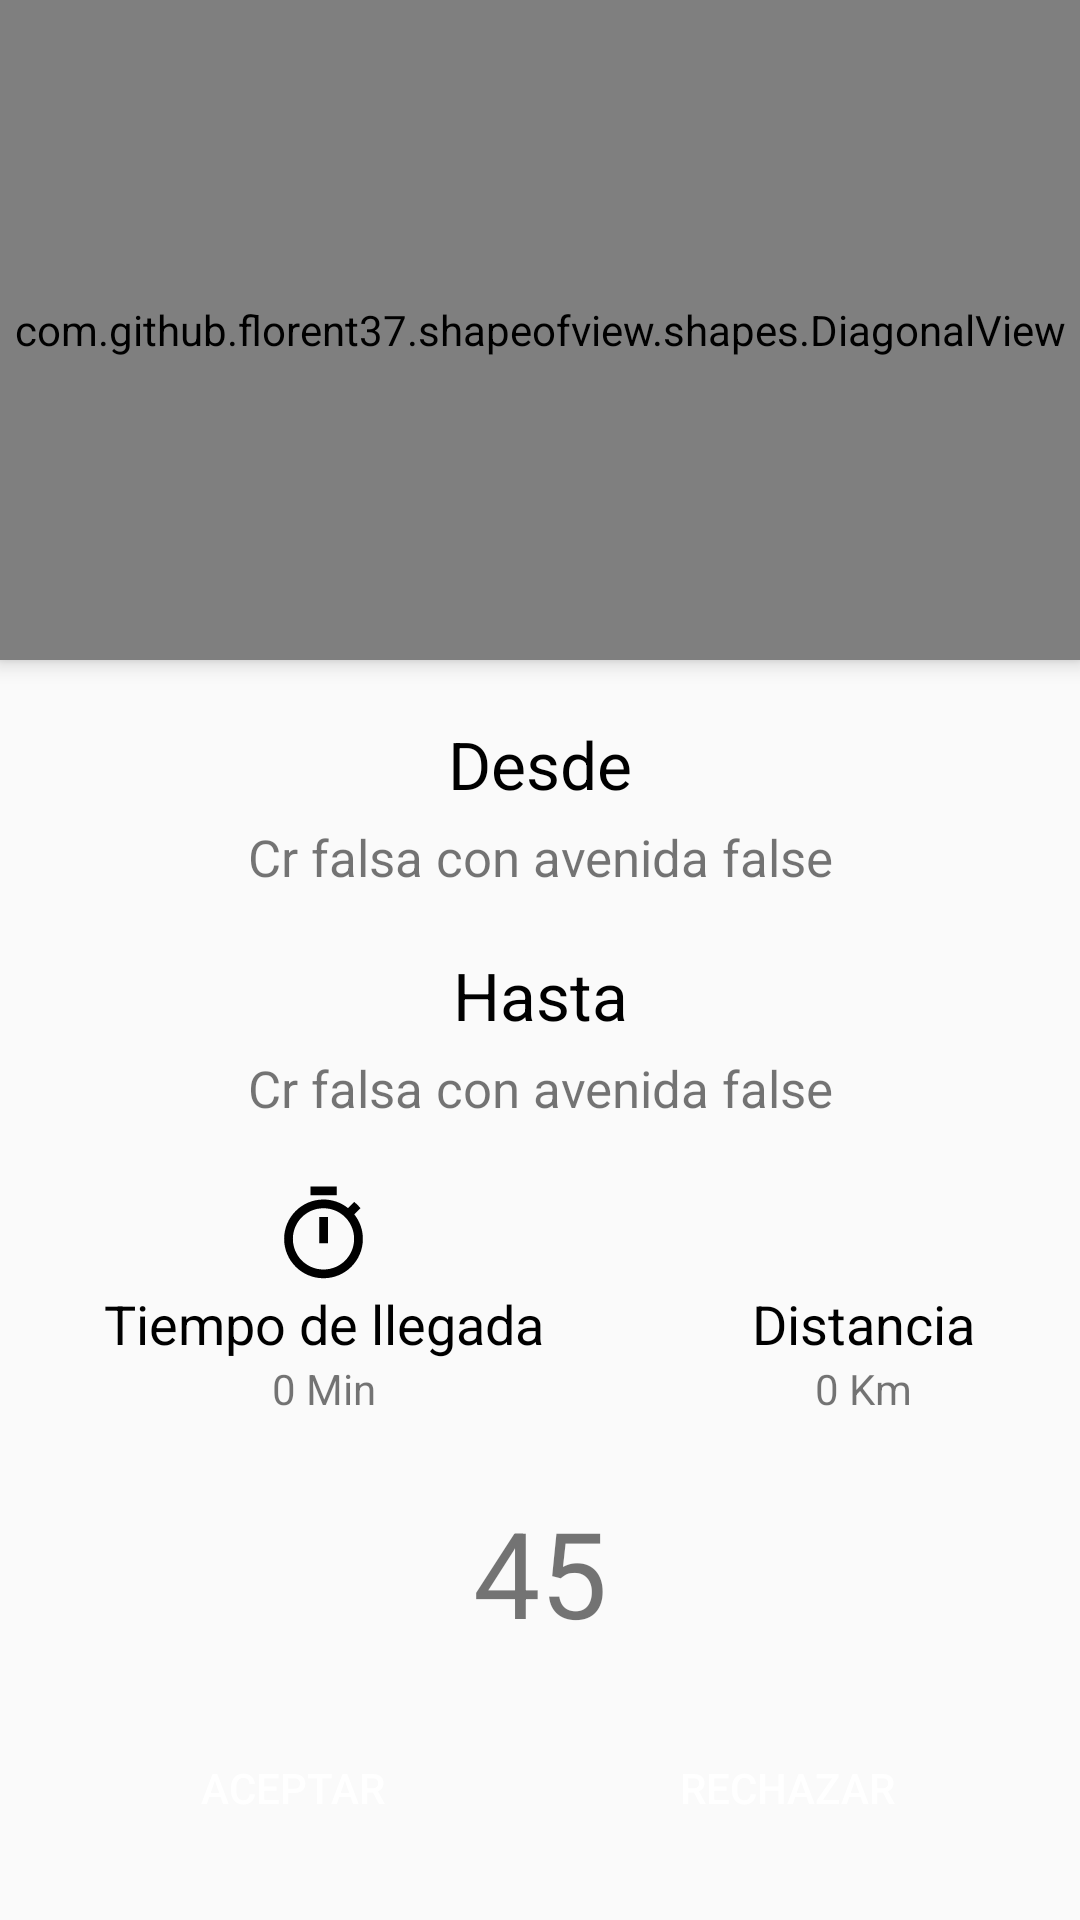

Screen size 1080×1920. Icon name, then its center in pixels as (x=x, y=y):
timer: (x=323, y=1232)
